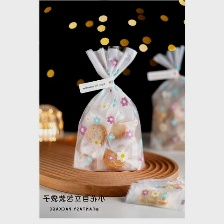snack: (69, 39, 149, 175), (144, 39, 184, 156), (119, 173, 185, 215)
